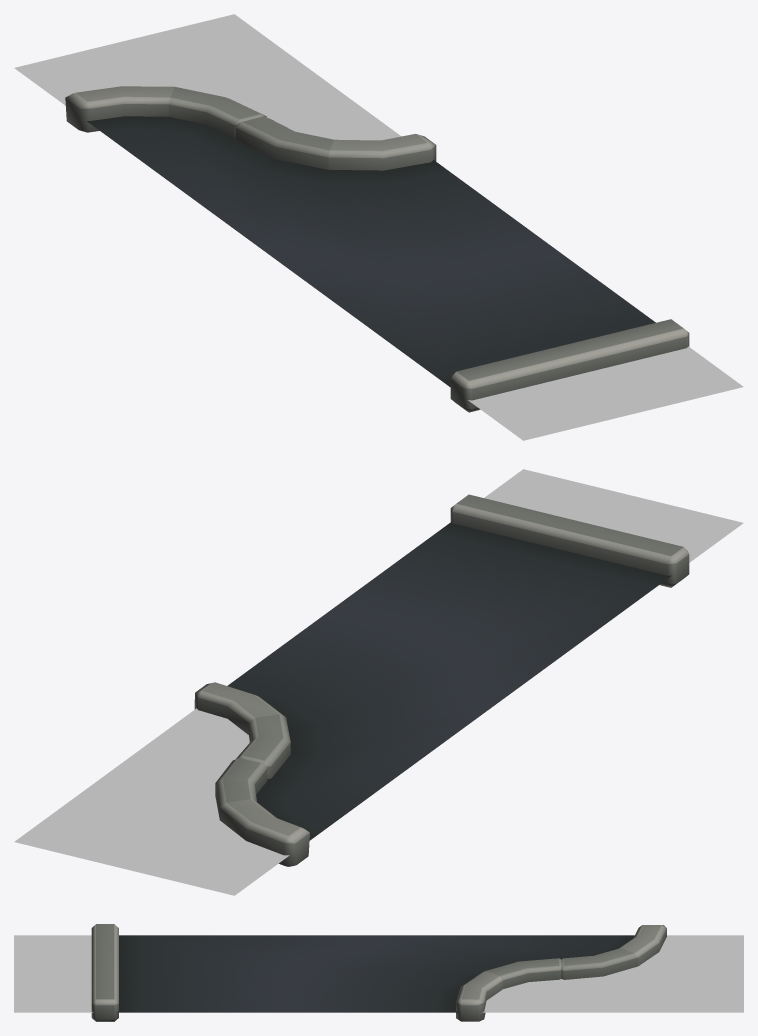
Rendered from road_to_lane_left.fbx.
3 views of the same model, one above another, from view 1: azimuth 30°, elevation 25°; view 2: azimuth 150°, elevation 25°; view 3: azimuth 270°, elevation 25° (orthographic). The views are drawn at different scales.
Visible parts, largest first — view 1: road_to_lane_left, road_to_lane_left_sidewalk; view 2: road_to_lane_left, road_to_lane_left_sidewalk; view 3: road_to_lane_left, road_to_lane_left_sidewalk.
Boxes of the visible parts, bbox=[...] form: road_to_lane_left: bbox=[65, 86, 689, 412]; road_to_lane_left_sidewalk: bbox=[14, 14, 743, 440]; road_to_lane_left: bbox=[194, 494, 689, 866]; road_to_lane_left_sidewalk: bbox=[14, 469, 743, 895]; road_to_lane_left: bbox=[91, 924, 666, 1021]; road_to_lane_left_sidewalk: bbox=[14, 935, 743, 1012].
Size of the model in its own units: 417 by 55 by 1600.
